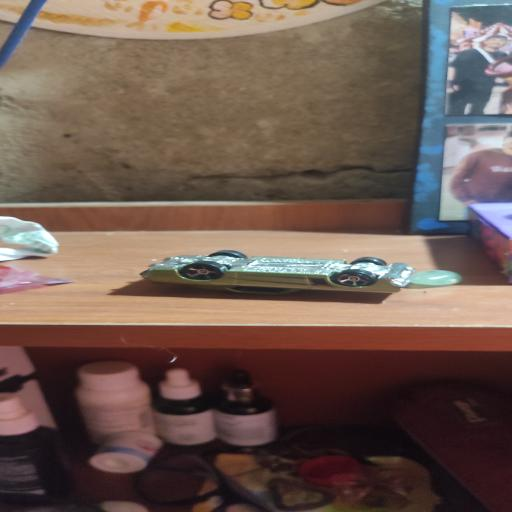Carrito: (140, 250, 414, 294)
